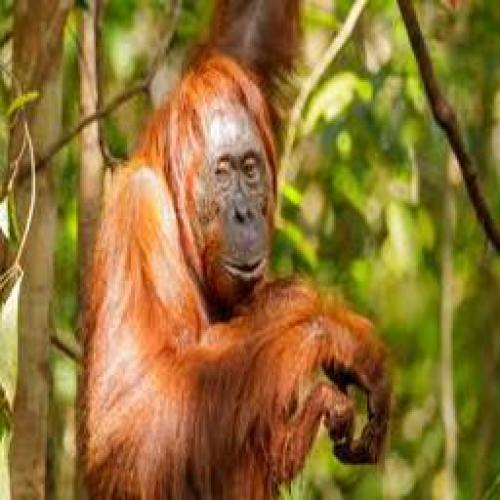orangutan-endangered: (64, 44, 410, 500)
